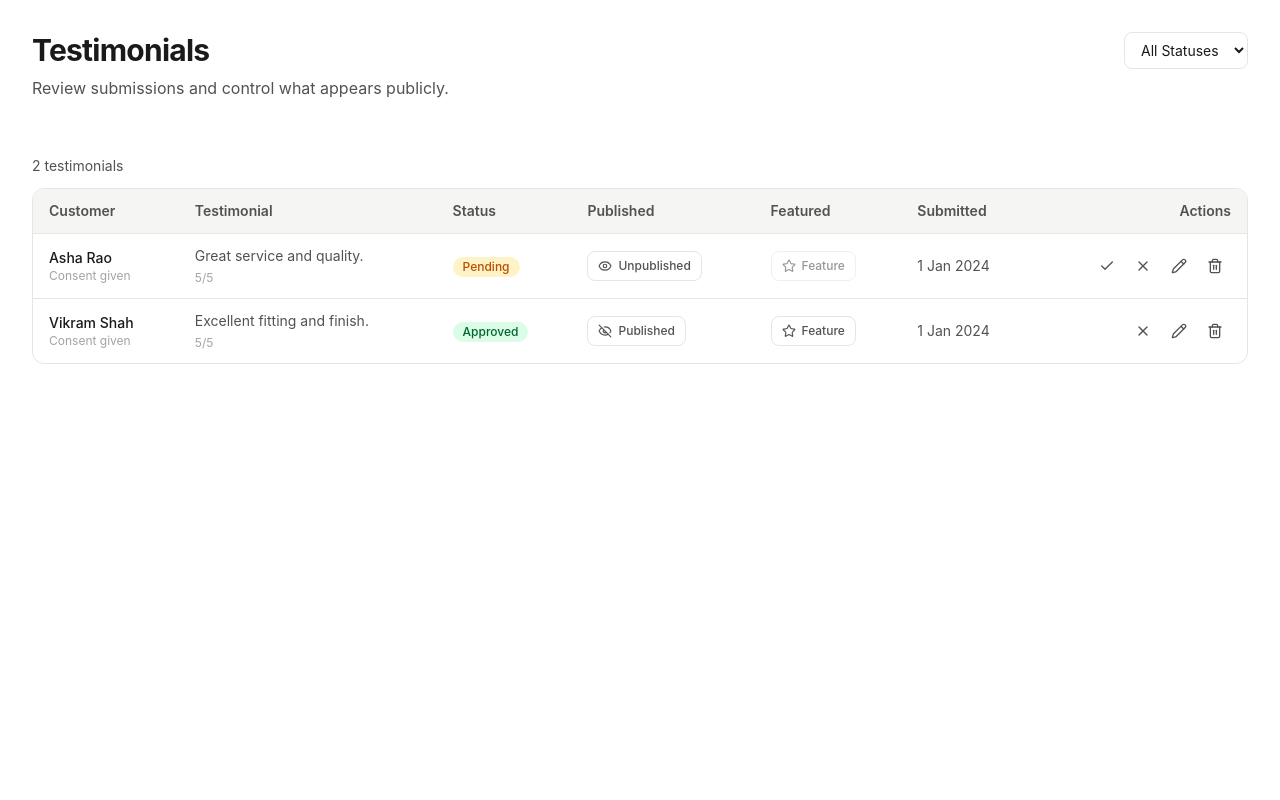
it: TestimonialsAdminPage › edits a testimonial through the dialog
Check: the text "Asha Rao" is shown, box [49, 249, 112, 266]
Click the button named "edit testimonial from asha rao" at (1179, 266), box [1163, 250, 1195, 282]
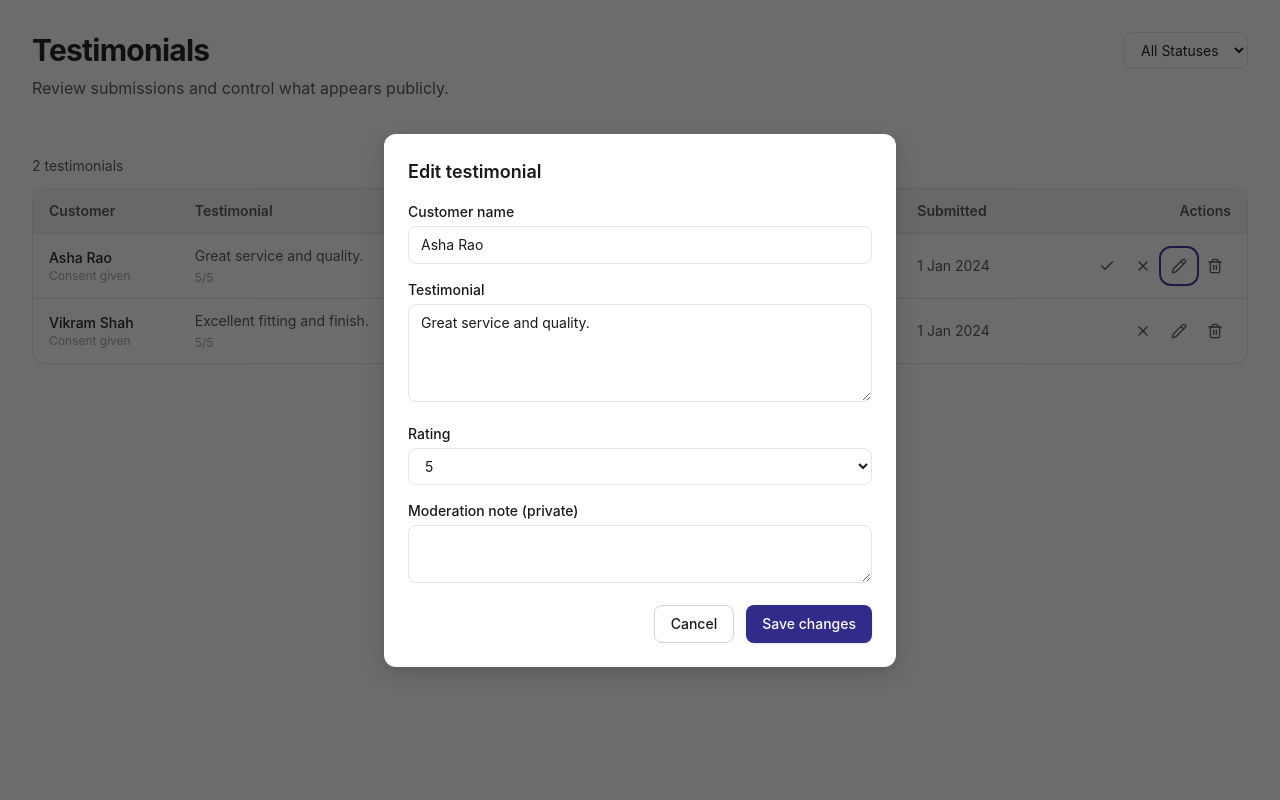
Replace the text in the field labelled "Customer name" with "Asha R." at (640, 244), box [408, 226, 872, 264]
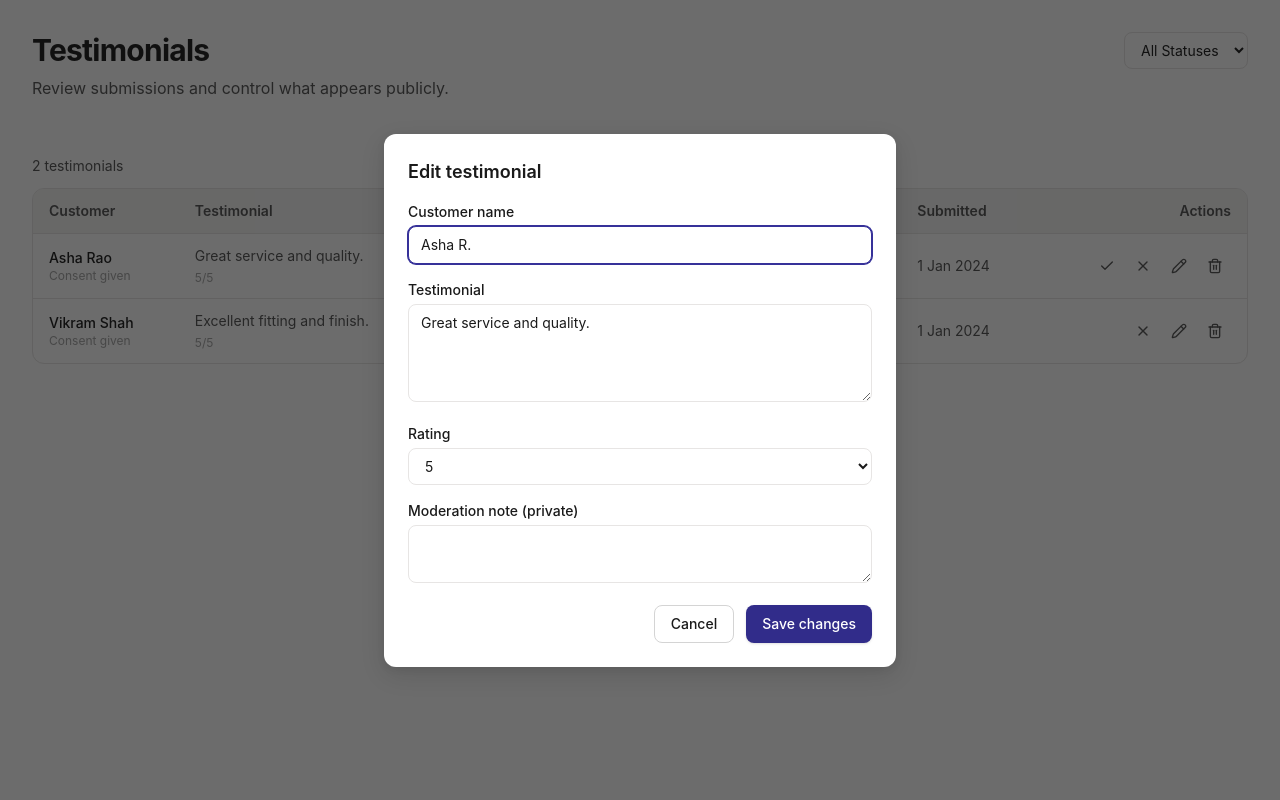
Click the button "Save changes" at (809, 624), box [746, 604, 872, 642]
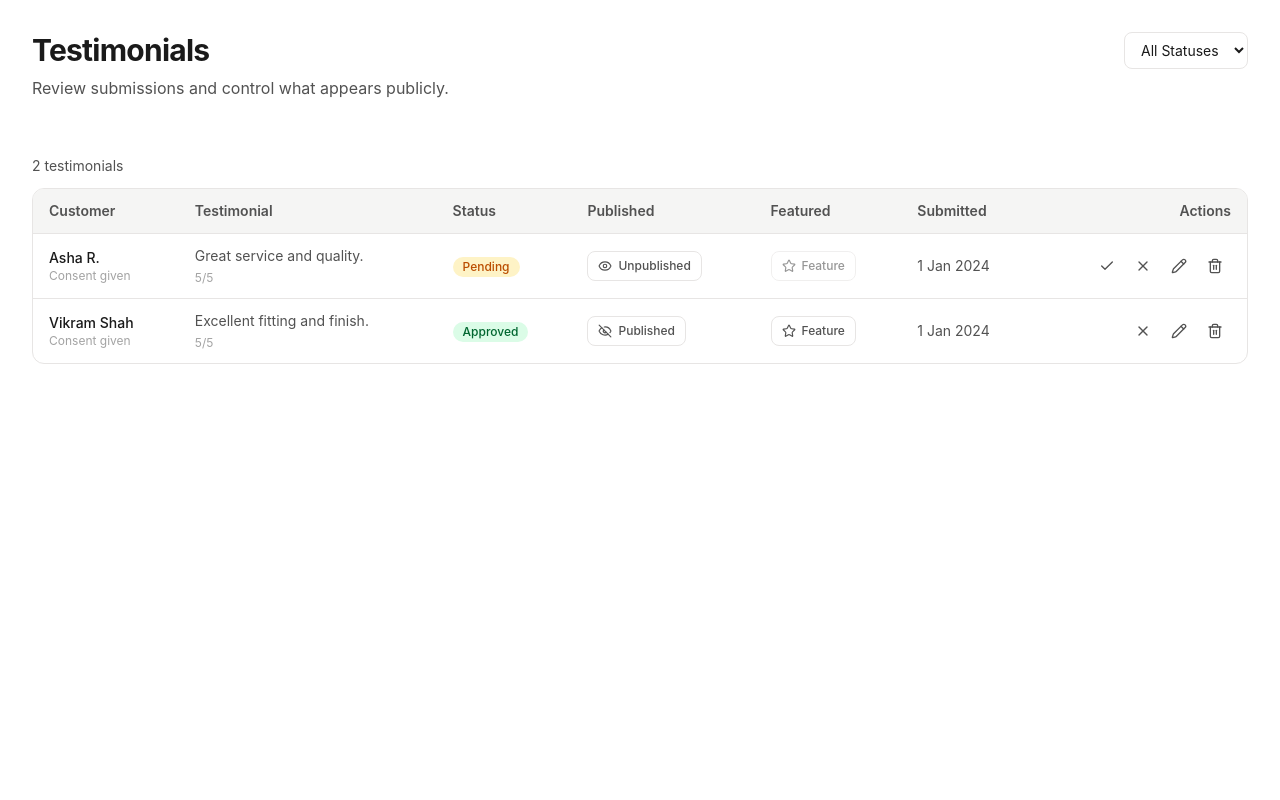
Check: the text "Asha R." is shown, box [49, 249, 100, 266]
Check: the heading "Edit testimonial" is gone
